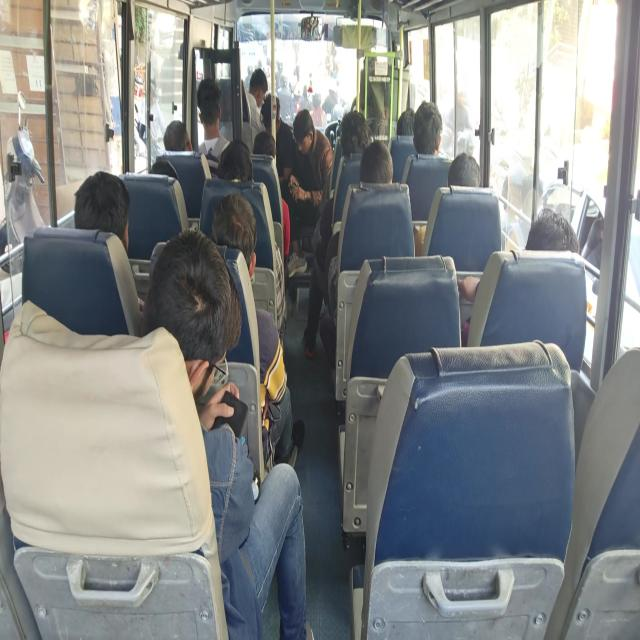person: (158, 241, 233, 384), (200, 196, 274, 274), (81, 171, 140, 254), (528, 209, 586, 257), (222, 136, 262, 189), (355, 144, 403, 188), (447, 150, 484, 202), (416, 103, 442, 164), (144, 161, 179, 201), (196, 80, 224, 128), (340, 113, 372, 152), (157, 116, 187, 154), (396, 110, 421, 139), (298, 122, 320, 153), (253, 132, 275, 159), (250, 73, 268, 97), (264, 102, 282, 124)
